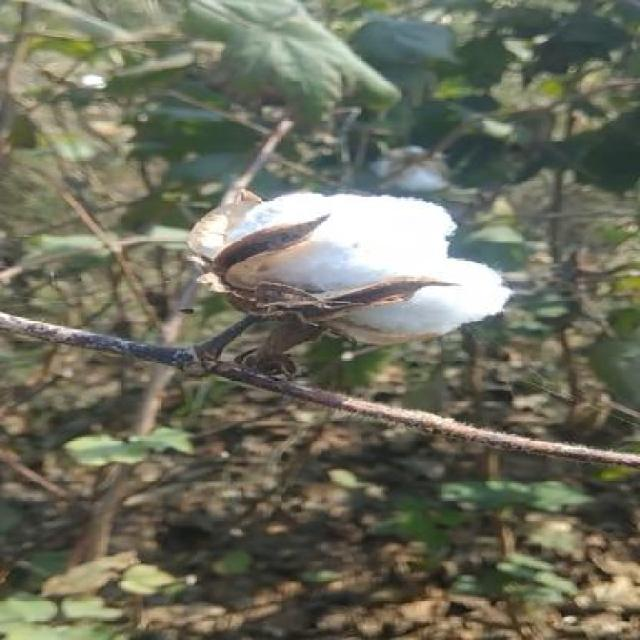cotton_ready: (141, 176, 514, 430)
